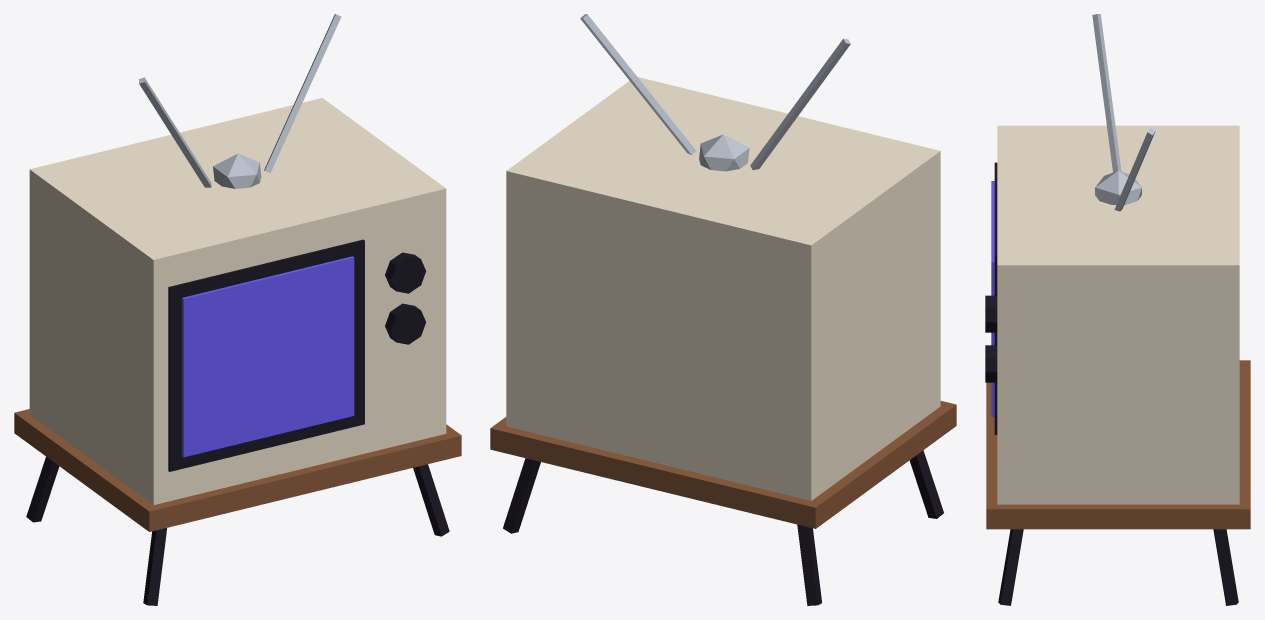
Rendered from RetroTV.fbx.
The picture shows the model from 3 angles, left to right: view 1: azimuth 30°, elevation 25°; view 2: azimuth 150°, elevation 25°; view 3: azimuth 270°, elevation 25°; orthographic projection. The views are drawn at different scales.
Visible parts, largest first — view 1: RetroTV, RetroTV_Glow; view 2: RetroTV; view 3: RetroTV, RetroTV_Glow.
Boxes of the visible parts, x1,y1,x2,y2 form: RetroTV: [14, 14, 461, 605]; RetroTV_Glow: [181, 256, 354, 457]; RetroTV: [490, 14, 956, 605]; RetroTV: [985, 14, 1250, 605]; RetroTV_Glow: [991, 181, 994, 416].
Bounding box in the file's own units: 320 × 474 × 241.
1 material, 1 textured.
